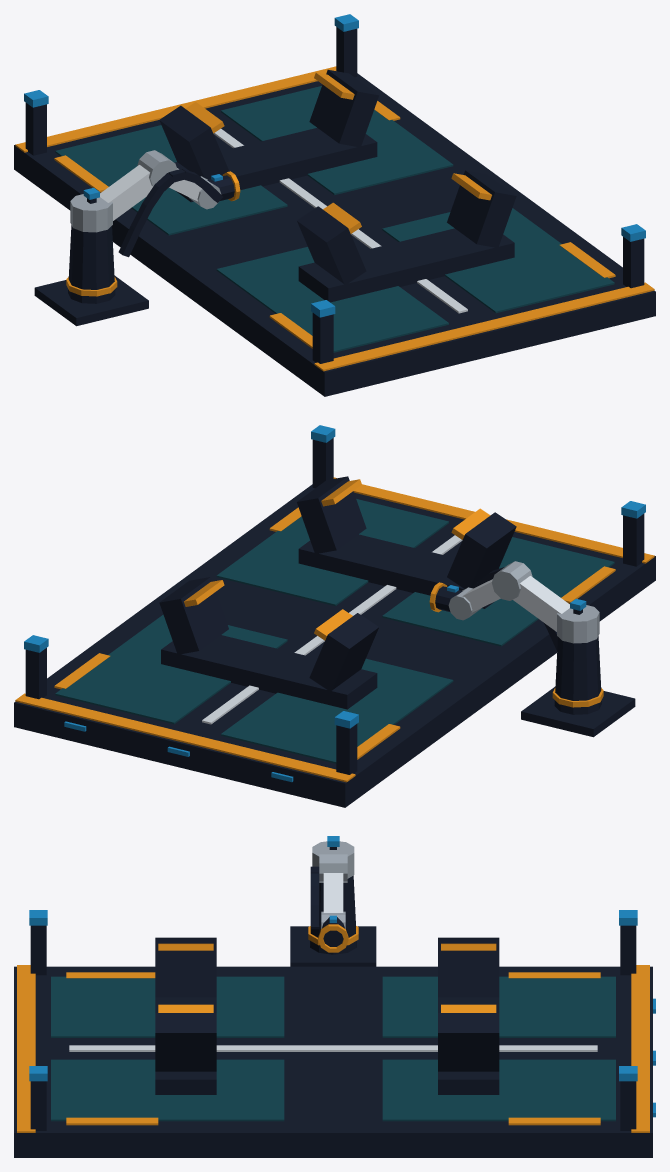
3 renders of one model, top to bottom at view 1: azimuth 30°, elevation 25°; view 2: azimuth 150°, elevation 25°; view 3: azimuth 270°, elevation 25°, orthographic. The views are drawn at different scales.
Visible parts, largest first — view 1: DL014_DockingPadSet_graphite_navy, DL014_DockingPadSet_teal_shell, DL014_DockingPadSet_amber_accent, DL014_DockingPadSet_hull_offwhite, DL014_DockingPadSet_titanium, DL014_DockingPadSet_emissive_cyan; view 2: DL014_DockingPadSet_graphite_navy, DL014_DockingPadSet_teal_shell, DL014_DockingPadSet_amber_accent, DL014_DockingPadSet_hull_offwhite, DL014_DockingPadSet_titanium, DL014_DockingPadSet_emissive_cyan; view 3: DL014_DockingPadSet_graphite_navy, DL014_DockingPadSet_teal_shell, DL014_DockingPadSet_amber_accent, DL014_DockingPadSet_hull_offwhite, DL014_DockingPadSet_emissive_cyan, DL014_DockingPadSet_titanium.
Part boxes in pixels (<box>): DL014_DockingPadSet_graphite_navy: <box>14,27,655,396</box>; DL014_DockingPadSet_teal_shell: <box>55,86,614,352</box>; DL014_DockingPadSet_amber_accent: <box>15,66,654,371</box>; DL014_DockingPadSet_hull_offwhite: <box>100,129,467,313</box>; DL014_DockingPadSet_titanium: <box>70,150,221,232</box>; DL014_DockingPadSet_emissive_cyan: <box>24,14,645,317</box>; DL014_DockingPadSet_graphite_navy: <box>14,438,655,807</box>; DL014_DockingPadSet_teal_shell: <box>55,499,614,763</box>; DL014_DockingPadSet_amber_accent: <box>15,477,654,782</box>; DL014_DockingPadSet_hull_offwhite: <box>202,535,569,724</box>; DL014_DockingPadSet_titanium: <box>448,561,599,643</box>; DL014_DockingPadSet_emissive_cyan: <box>24,425,645,782</box>; DL014_DockingPadSet_graphite_navy: <box>14,847,652,1157</box>; DL014_DockingPadSet_teal_shell: <box>51,976,615,1121</box>; DL014_DockingPadSet_amber_accent: <box>17,924,649,1132</box>; DL014_DockingPadSet_hull_offwhite: <box>69,873,597,1051</box>; DL014_DockingPadSet_emissive_cyan: <box>29,836,655,1117</box>; DL014_DockingPadSet_titanium: <box>312,841,354,928</box>.
Size of the model in its own units: 8.6 by 2.4 by 10.45.
